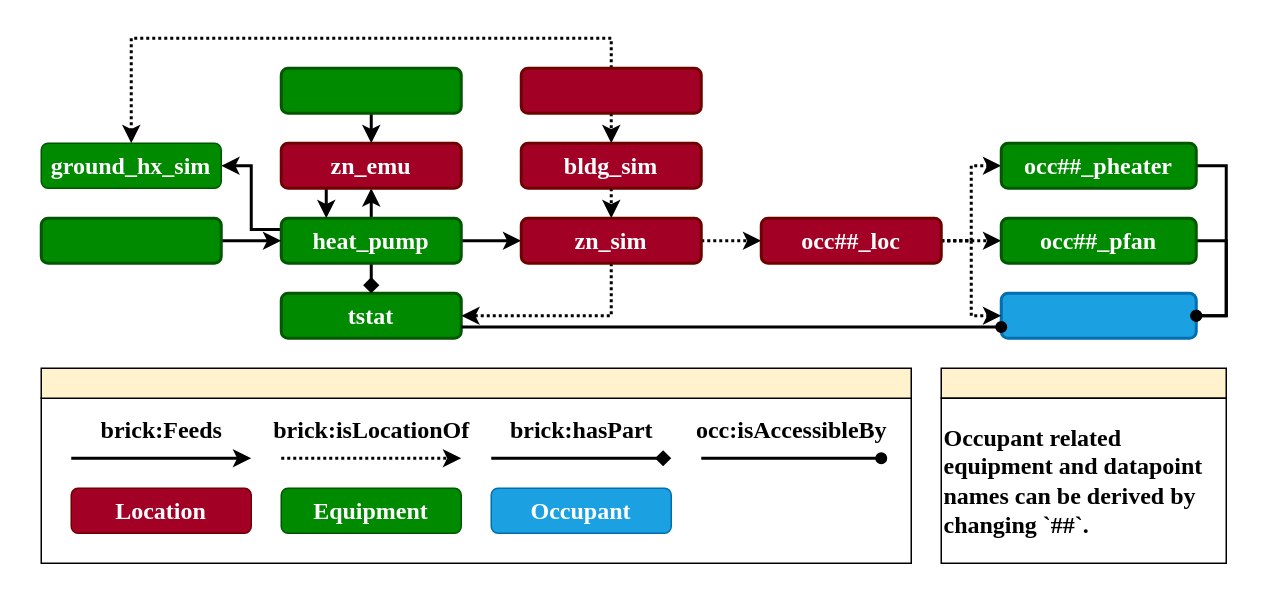
The diagram is 1266 pixels wide and 590 high, and some of its shapes have lost their labels. Each missing label, with the centre of its shape:
"LEGEND" belongs at [475,382].
"NOTES" belongs at [1083,382].
"occ##" belongs at [1098,315].
"out_sim" belongs at [610,90].
"water_emulator" belongs at [130,240].
"zn_emulator" belongs at [370,90].
